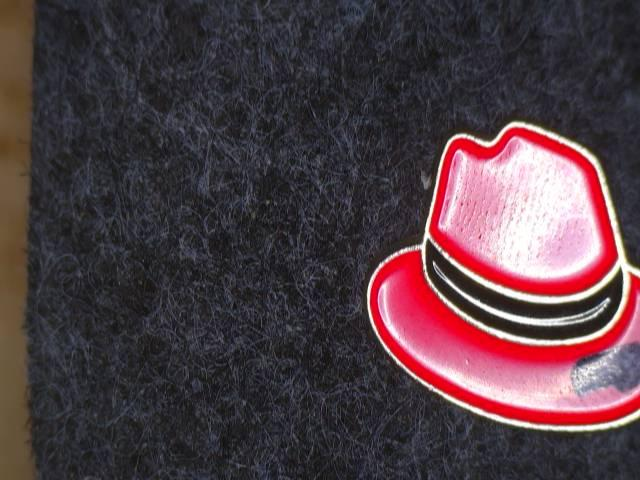Red-Hat: (320, 103, 640, 447)
Scratch: (553, 339, 640, 403)
